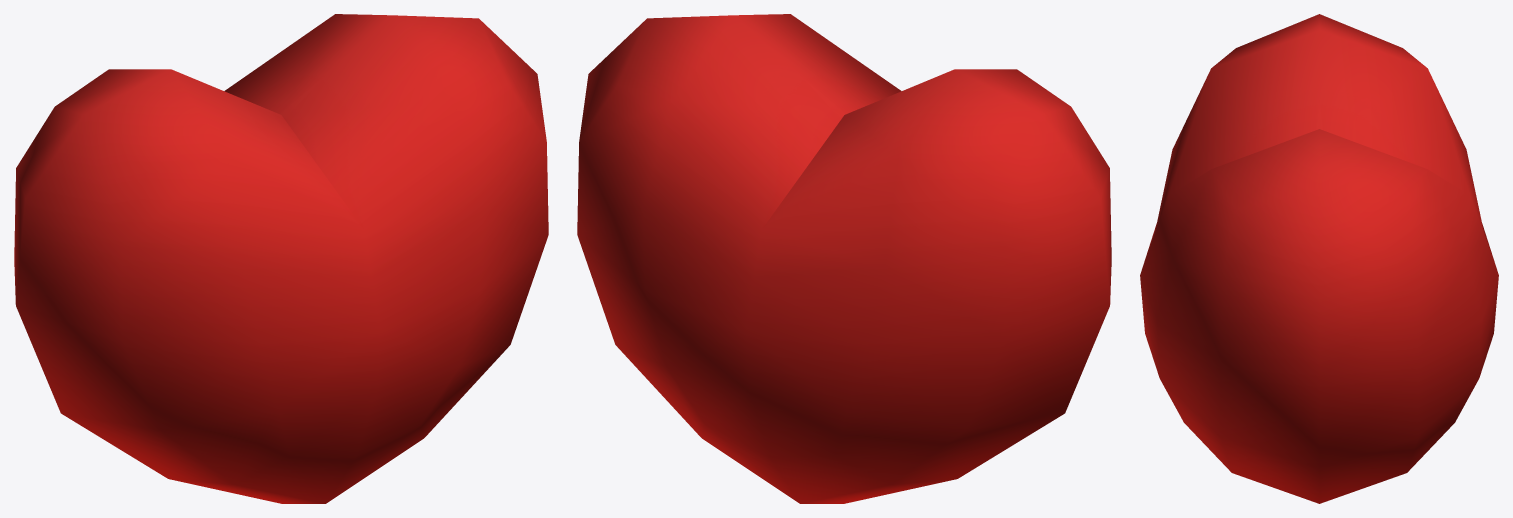
The model's file is Heart.FBX.
3 renders of one model, left to right at view 1: azimuth 30°, elevation 25°; view 2: azimuth 150°, elevation 25°; view 3: azimuth 270°, elevation 25°, orthographic. The views are drawn at different scales.
Parts seen in each view (by area): view 1: Heart; view 2: Heart; view 3: Heart.
Part boxes in pixels (x1=…): Heart: x1=14, y1=14, x2=548, y2=503; Heart: x1=577, y1=14, x2=1111, y2=503; Heart: x1=1140, y1=14, x2=1498, y2=503.
Bounding box in the file's own units: 100 × 83.03 × 64.05.
